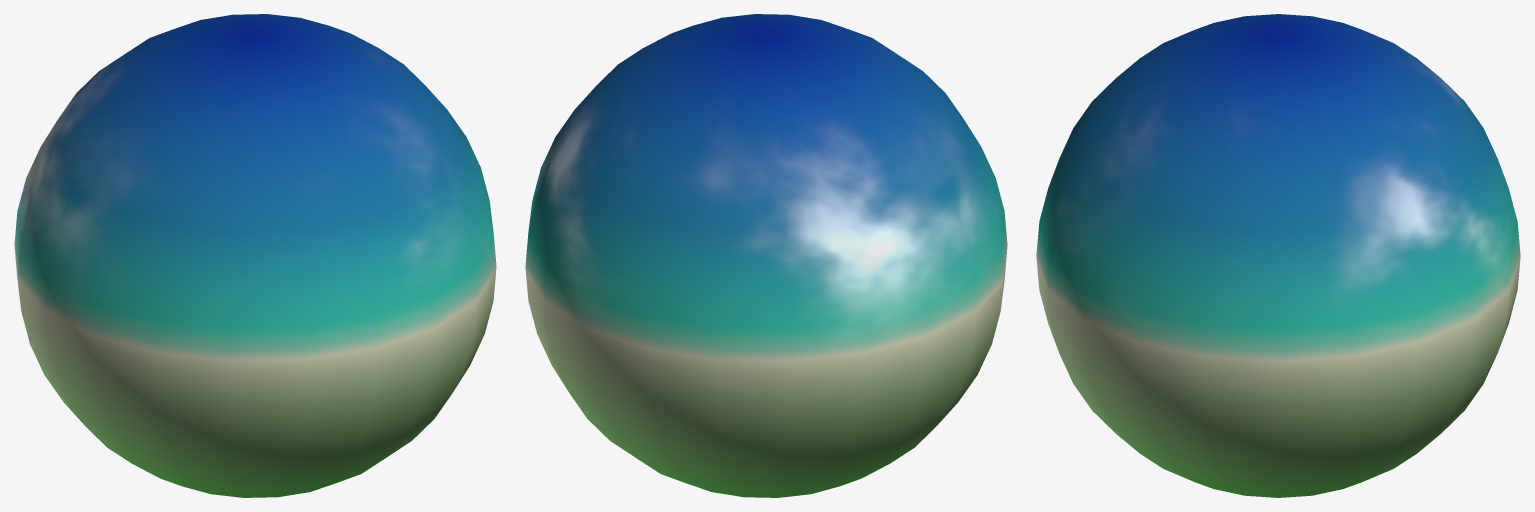
The model's file is sky_sphere.obj.
The picture shows the model from 3 angles, left to right: view 1: azimuth 30°, elevation 25°; view 2: azimuth 150°, elevation 25°; view 3: azimuth 270°, elevation 25°; orthographic projection.
Visible parts, largest first — view 1: sky_sphere; view 2: sky_sphere; view 3: sky_sphere.
Boxes of the visible parts, bbox=[...] form: sky_sphere: bbox=[14, 14, 496, 497]; sky_sphere: bbox=[525, 14, 1007, 497]; sky_sphere: bbox=[1036, 14, 1520, 497].
Bounding box in the file's own units: 1 × 1 × 1.
Materials: 1 (1 with a texture image).
